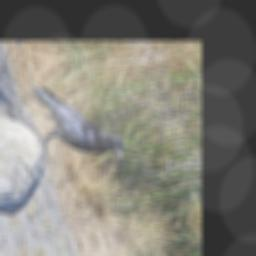Crow: (17, 69, 131, 176)
